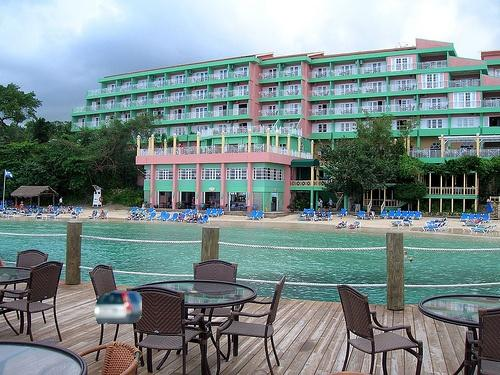tampered: (95, 291, 142, 324)
